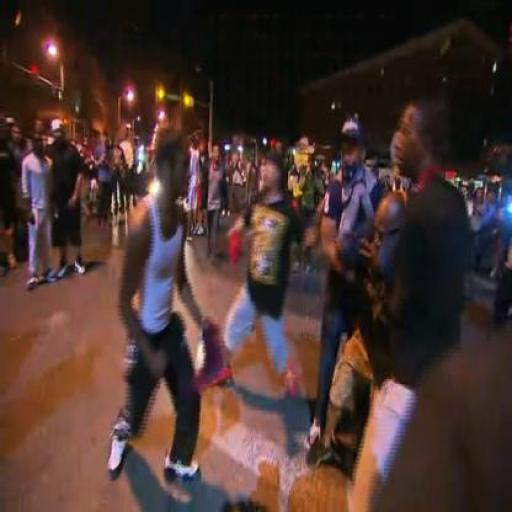Fighting: (118, 106, 472, 509)
